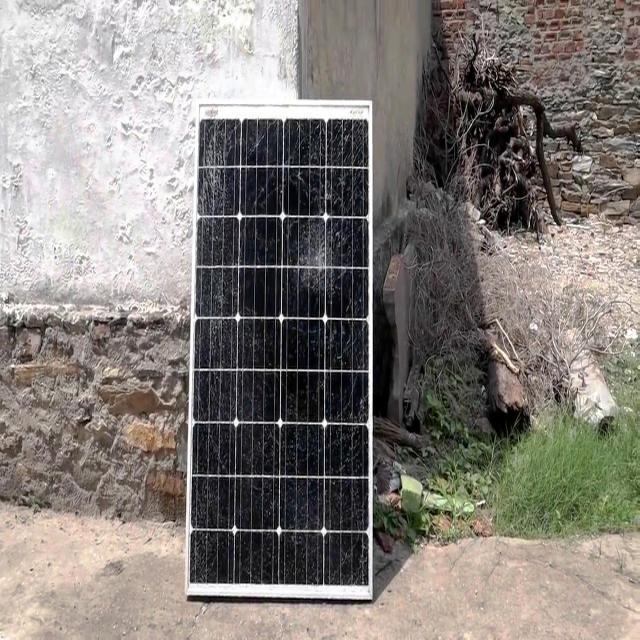faulty: (188, 112, 372, 595)
